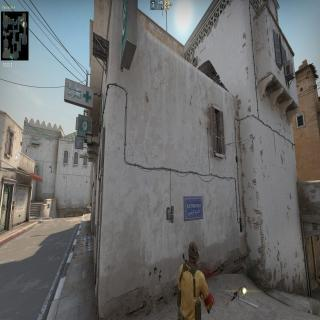T-Head: (187, 240, 200, 266)
